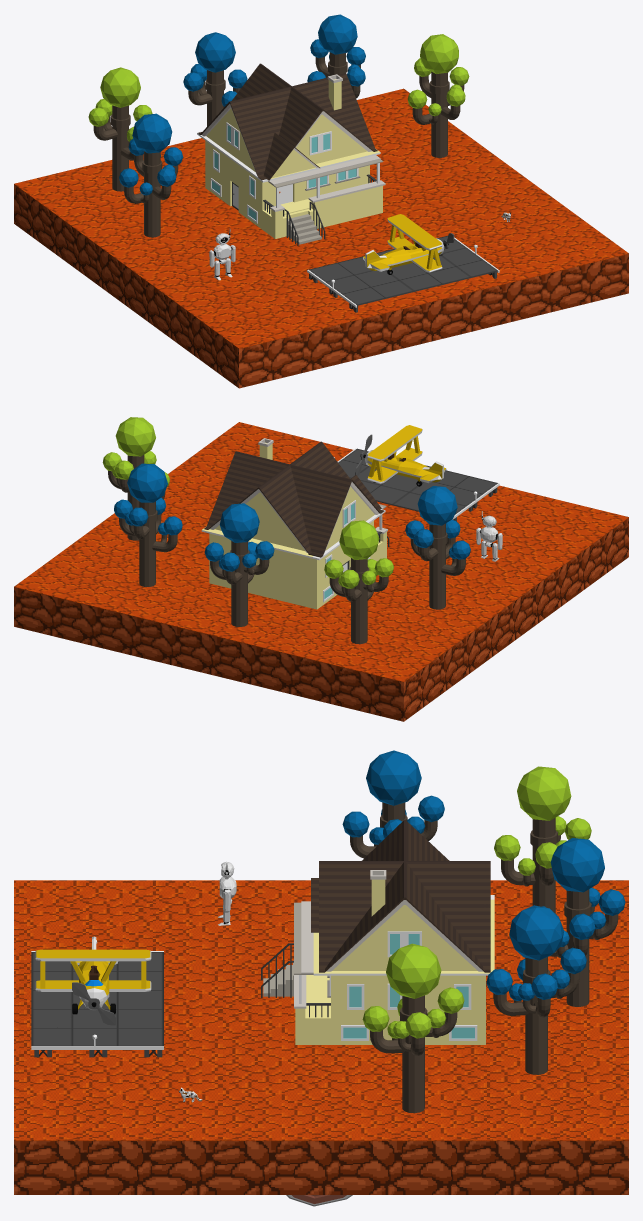
3 renders of one model, top to bottom at view 1: azimuth 30°, elevation 25°; view 2: azimuth 150°, elevation 25°; view 3: azimuth 270°, elevation 25°, orthographic. The views are drawn at different scales.
Parts seen in each view (by area): view 1: Cube.001, Cube.1555, VEHICLES_AIRPLANE, OBJRANDOM_PLATZEEBOT; view 2: Cube.001, Cube.1555, VEHICLES_AIRPLANE, OBJRANDOM_PLATZEEBOT; view 3: Cube.001, Cube.1555, VEHICLES_AIRPLANE, OBJRANDOM_PLATZEEBOT.
Part boxes in pixels (box(x1,y1,x2,y2)): Cube.001: box(14, 14, 628, 388); Cube.1555: box(197, 63, 385, 245); VEHICLES_AIRPLANE: box(363, 214, 454, 274); OBJRANDOM_PLATZEEBOT: box(209, 228, 235, 280); Cube.001: box(14, 417, 628, 721); Cube.1555: box(201, 438, 389, 609); VEHICLES_AIRPLANE: box(355, 425, 446, 486); OBJRANDOM_PLATZEEBOT: box(476, 511, 502, 561); Cube.001: box(14, 750, 628, 1194); Cube.1555: box(261, 820, 494, 1044); VEHICLES_AIRPLANE: box(35, 936, 151, 1025); OBJRANDOM_PLATZEEBOT: box(218, 861, 236, 925).
Bounding box in the file's own units: 4000 × 2380 × 4000.
44 materials, 4 textured.
